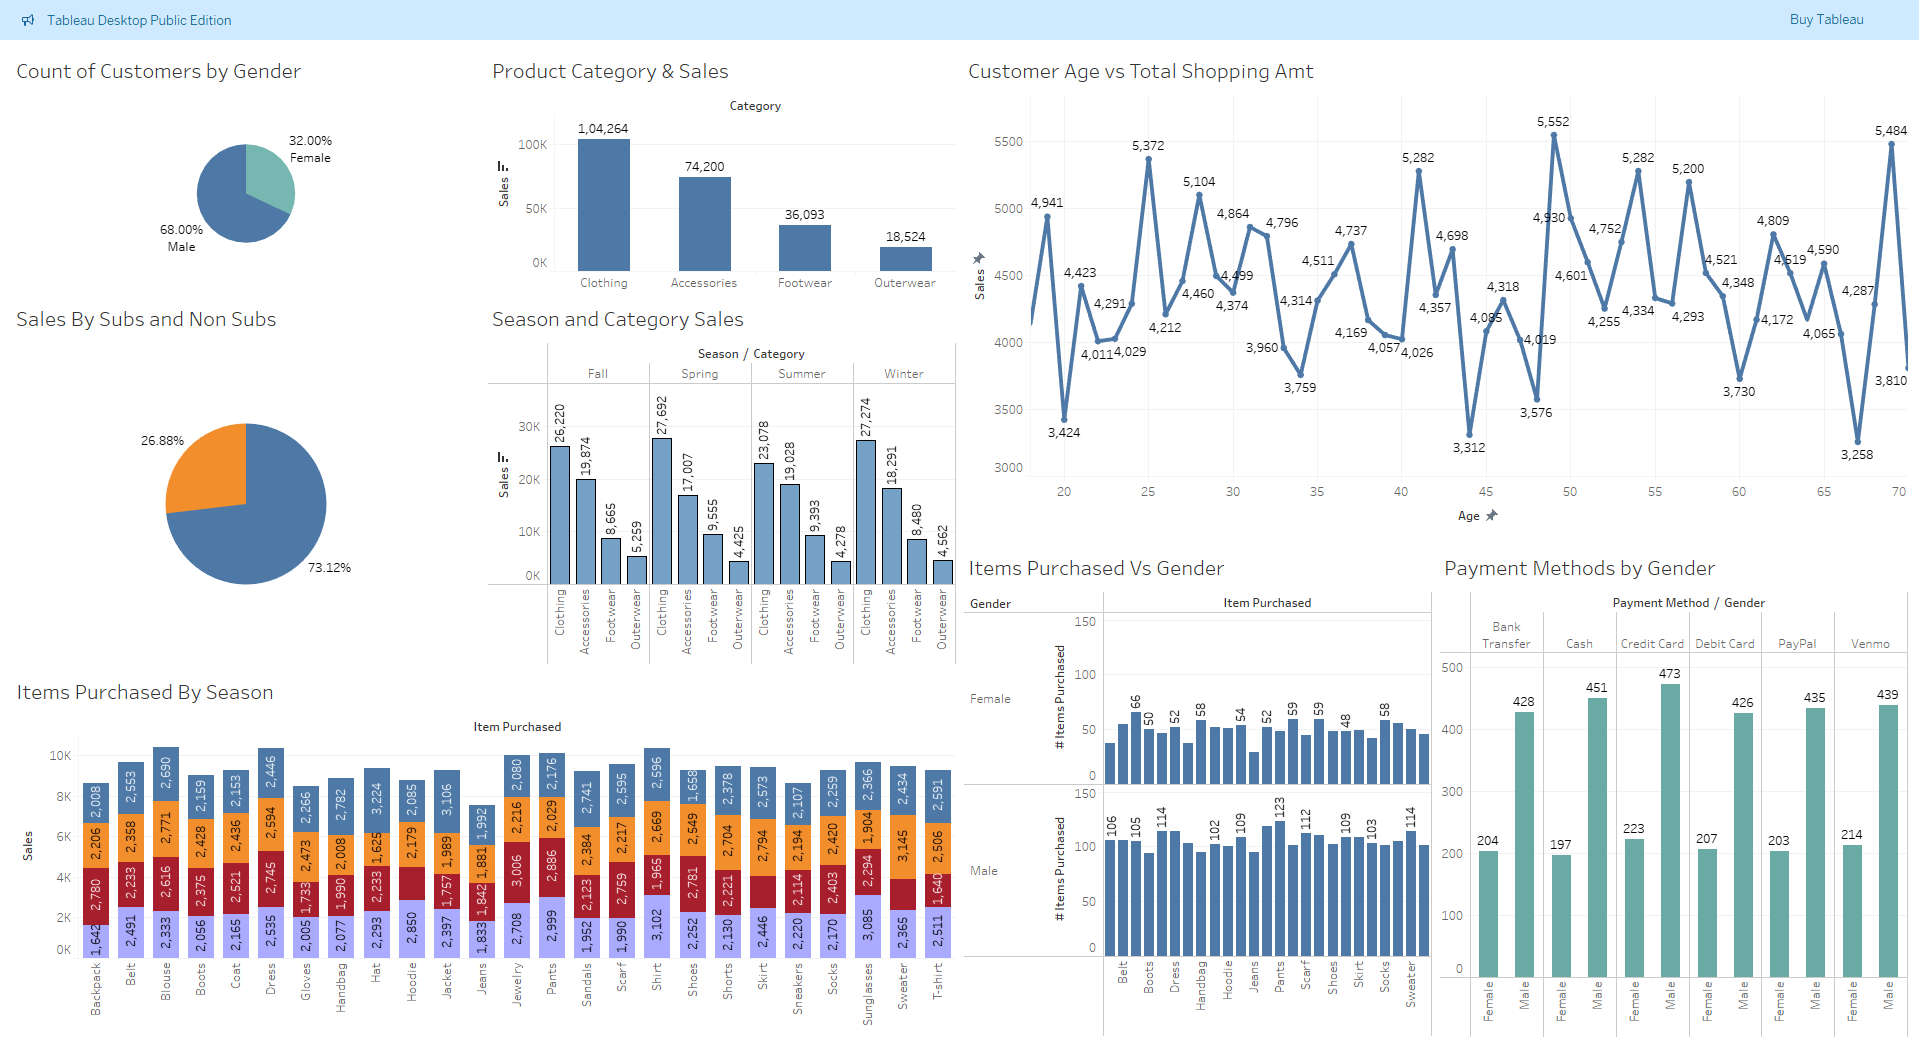

The dashboard page shown, as its layout file describes it:
{"tool":"tableau","page":{"name":"Shopping Trend Dashboard","canvas":[1000,1000],"units":"permille","ordinal":0},"visuals":[{"type":"worksheet","title":"Count of Customers by Gender","mark":"Pie","box":[4.7,9.3,247.6,245.3]},{"type":"worksheet","title":"Product Category & Sales","mark":"Bar","rows":["Purchase Amount (USD)"],"cols":["Category"],"box":[252.3,9.3,247.7,245.3]},{"type":"worksheet","title":"Customer Age vs Total Shopping Amt","mark":"Automatic","rows":["Purchase Amount (USD)"],"cols":["Age"],"box":[500,9.3,495.3,490.7]},{"type":"worksheet","title":"Sub Vs Non Sub Sales","mark":"Pie","box":[4.7,254.6,247.6,295.6]},{"type":"worksheet","title":"Season and Category Sales","mark":"Automatic","rows":["Purchase Amount (USD)"],"cols":["Season","Category"],"box":[252.3,254.6,247.7,295.6]},{"type":"worksheet","title":"Items Purchased Vs Gender","mark":"Automatic","rows":["Gender","shopping!trends_2CF9802C33D343ACB9C8391DE83EEA1A"],"cols":["Item Purchased"],"box":[500,500,247.6,490.7]},{"type":"worksheet","title":"Payment Methods by Gender","mark":"Automatic","rows":["shopping!trends_2CF9802C33D343ACB9C8391DE83EEA1A"],"cols":["Payment Method","Gender"],"box":[747.6,500,247.7,490.7]},{"type":"worksheet","title":"Items Purchased By Season","mark":"Automatic","rows":["Purchase Amount (USD)"],"cols":["Item Purchased"],"box":[4.7,550.2,495.3,440.4]}]}

Visuals, with their boxes on the dashboard's canvas, which has no fixed pixel size, in thousandths of its width and height (x1, y1, x2, y2). These are canvas units, not pixel positions in the 1919x1046 screenshot, which may show the page scaled, cropped or inside an application window:
"Count of Customers by Gender" worksheet (Pie marks): Rect(5, 9, 252, 255)
"Product Category & Sales" worksheet (Bar marks): Rect(252, 9, 500, 255)
"Customer Age vs Total Shopping Amt" worksheet: Rect(500, 9, 995, 500)
"Sub Vs Non Sub Sales" worksheet (Pie marks): Rect(5, 255, 252, 550)
"Season and Category Sales" worksheet: Rect(252, 255, 500, 550)
"Items Purchased Vs Gender" worksheet: Rect(500, 500, 748, 991)
"Payment Methods by Gender" worksheet: Rect(748, 500, 995, 991)
"Items Purchased By Season" worksheet: Rect(5, 550, 500, 991)
